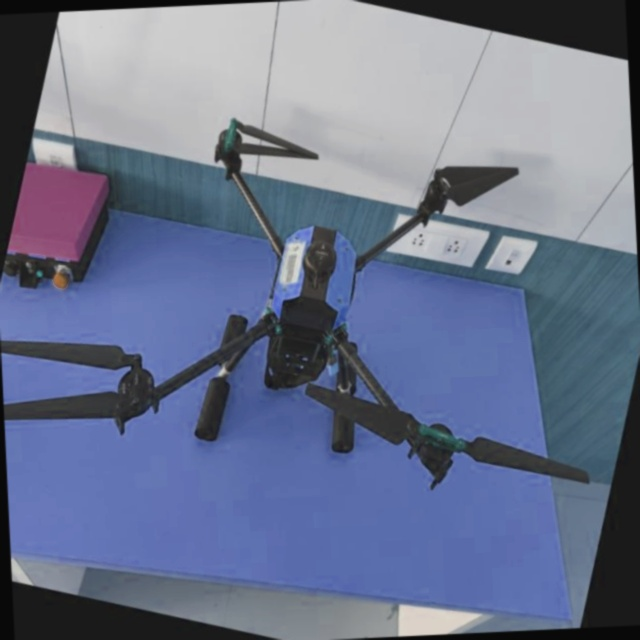quadcopter: (0, 31, 640, 591)
